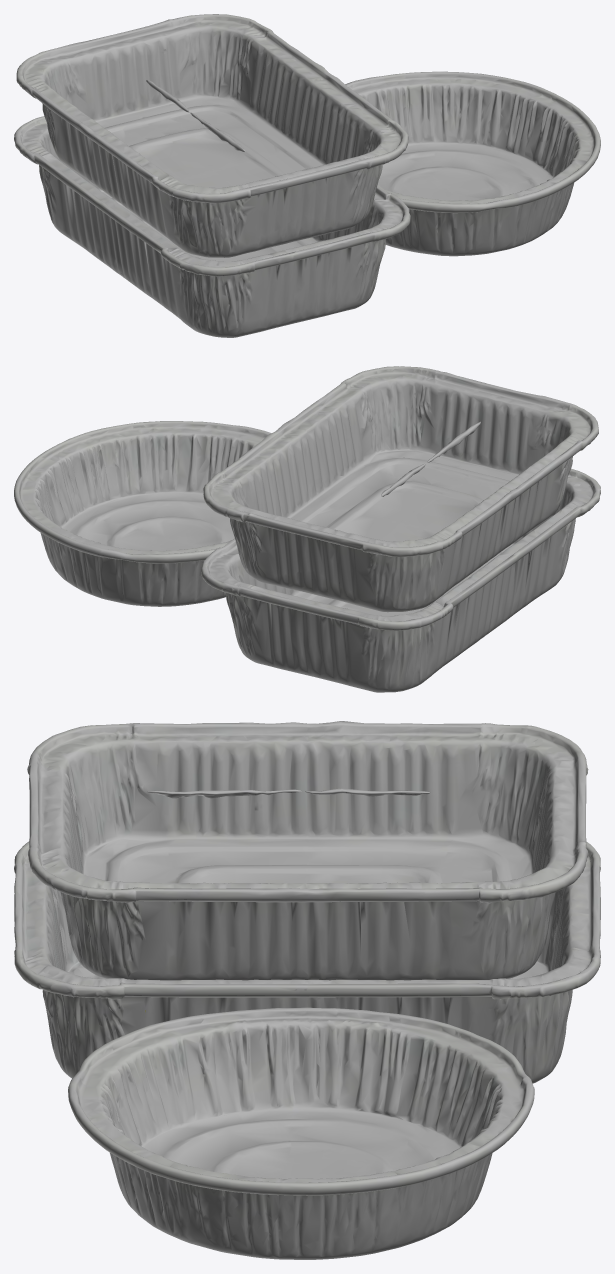
The model's file is aluminio.glb.
3 renders of one model, top to bottom at view 1: azimuth 30°, elevation 25°; view 2: azimuth 150°, elevation 25°; view 3: azimuth 270°, elevation 25°, orthographic. The views are drawn at different scales.
Visible parts, largest first — view 1: tripo_node_7ed37657-32a8-42b2-b616-620539f4a5df; view 2: tripo_node_7ed37657-32a8-42b2-b616-620539f4a5df; view 3: tripo_node_7ed37657-32a8-42b2-b616-620539f4a5df.
Boxes of the visible parts, x1=… form: tripo_node_7ed37657-32a8-42b2-b616-620539f4a5df: x1=14, y1=14, x2=600, y2=337; tripo_node_7ed37657-32a8-42b2-b616-620539f4a5df: x1=14, y1=366, x2=600, y2=692; tripo_node_7ed37657-32a8-42b2-b616-620539f4a5df: x1=14, y1=721, x2=600, y2=1259.
Bounding box in the file's own units: 0.9998 × 0.3159 × 0.734.
1 material, 1 textured.
